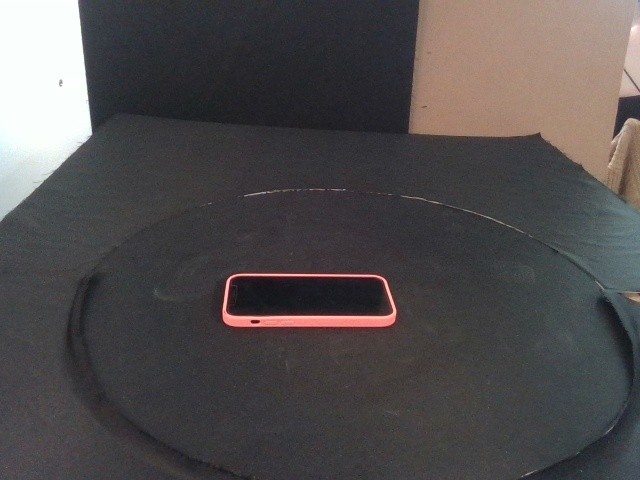phone: (222, 273, 397, 328)
